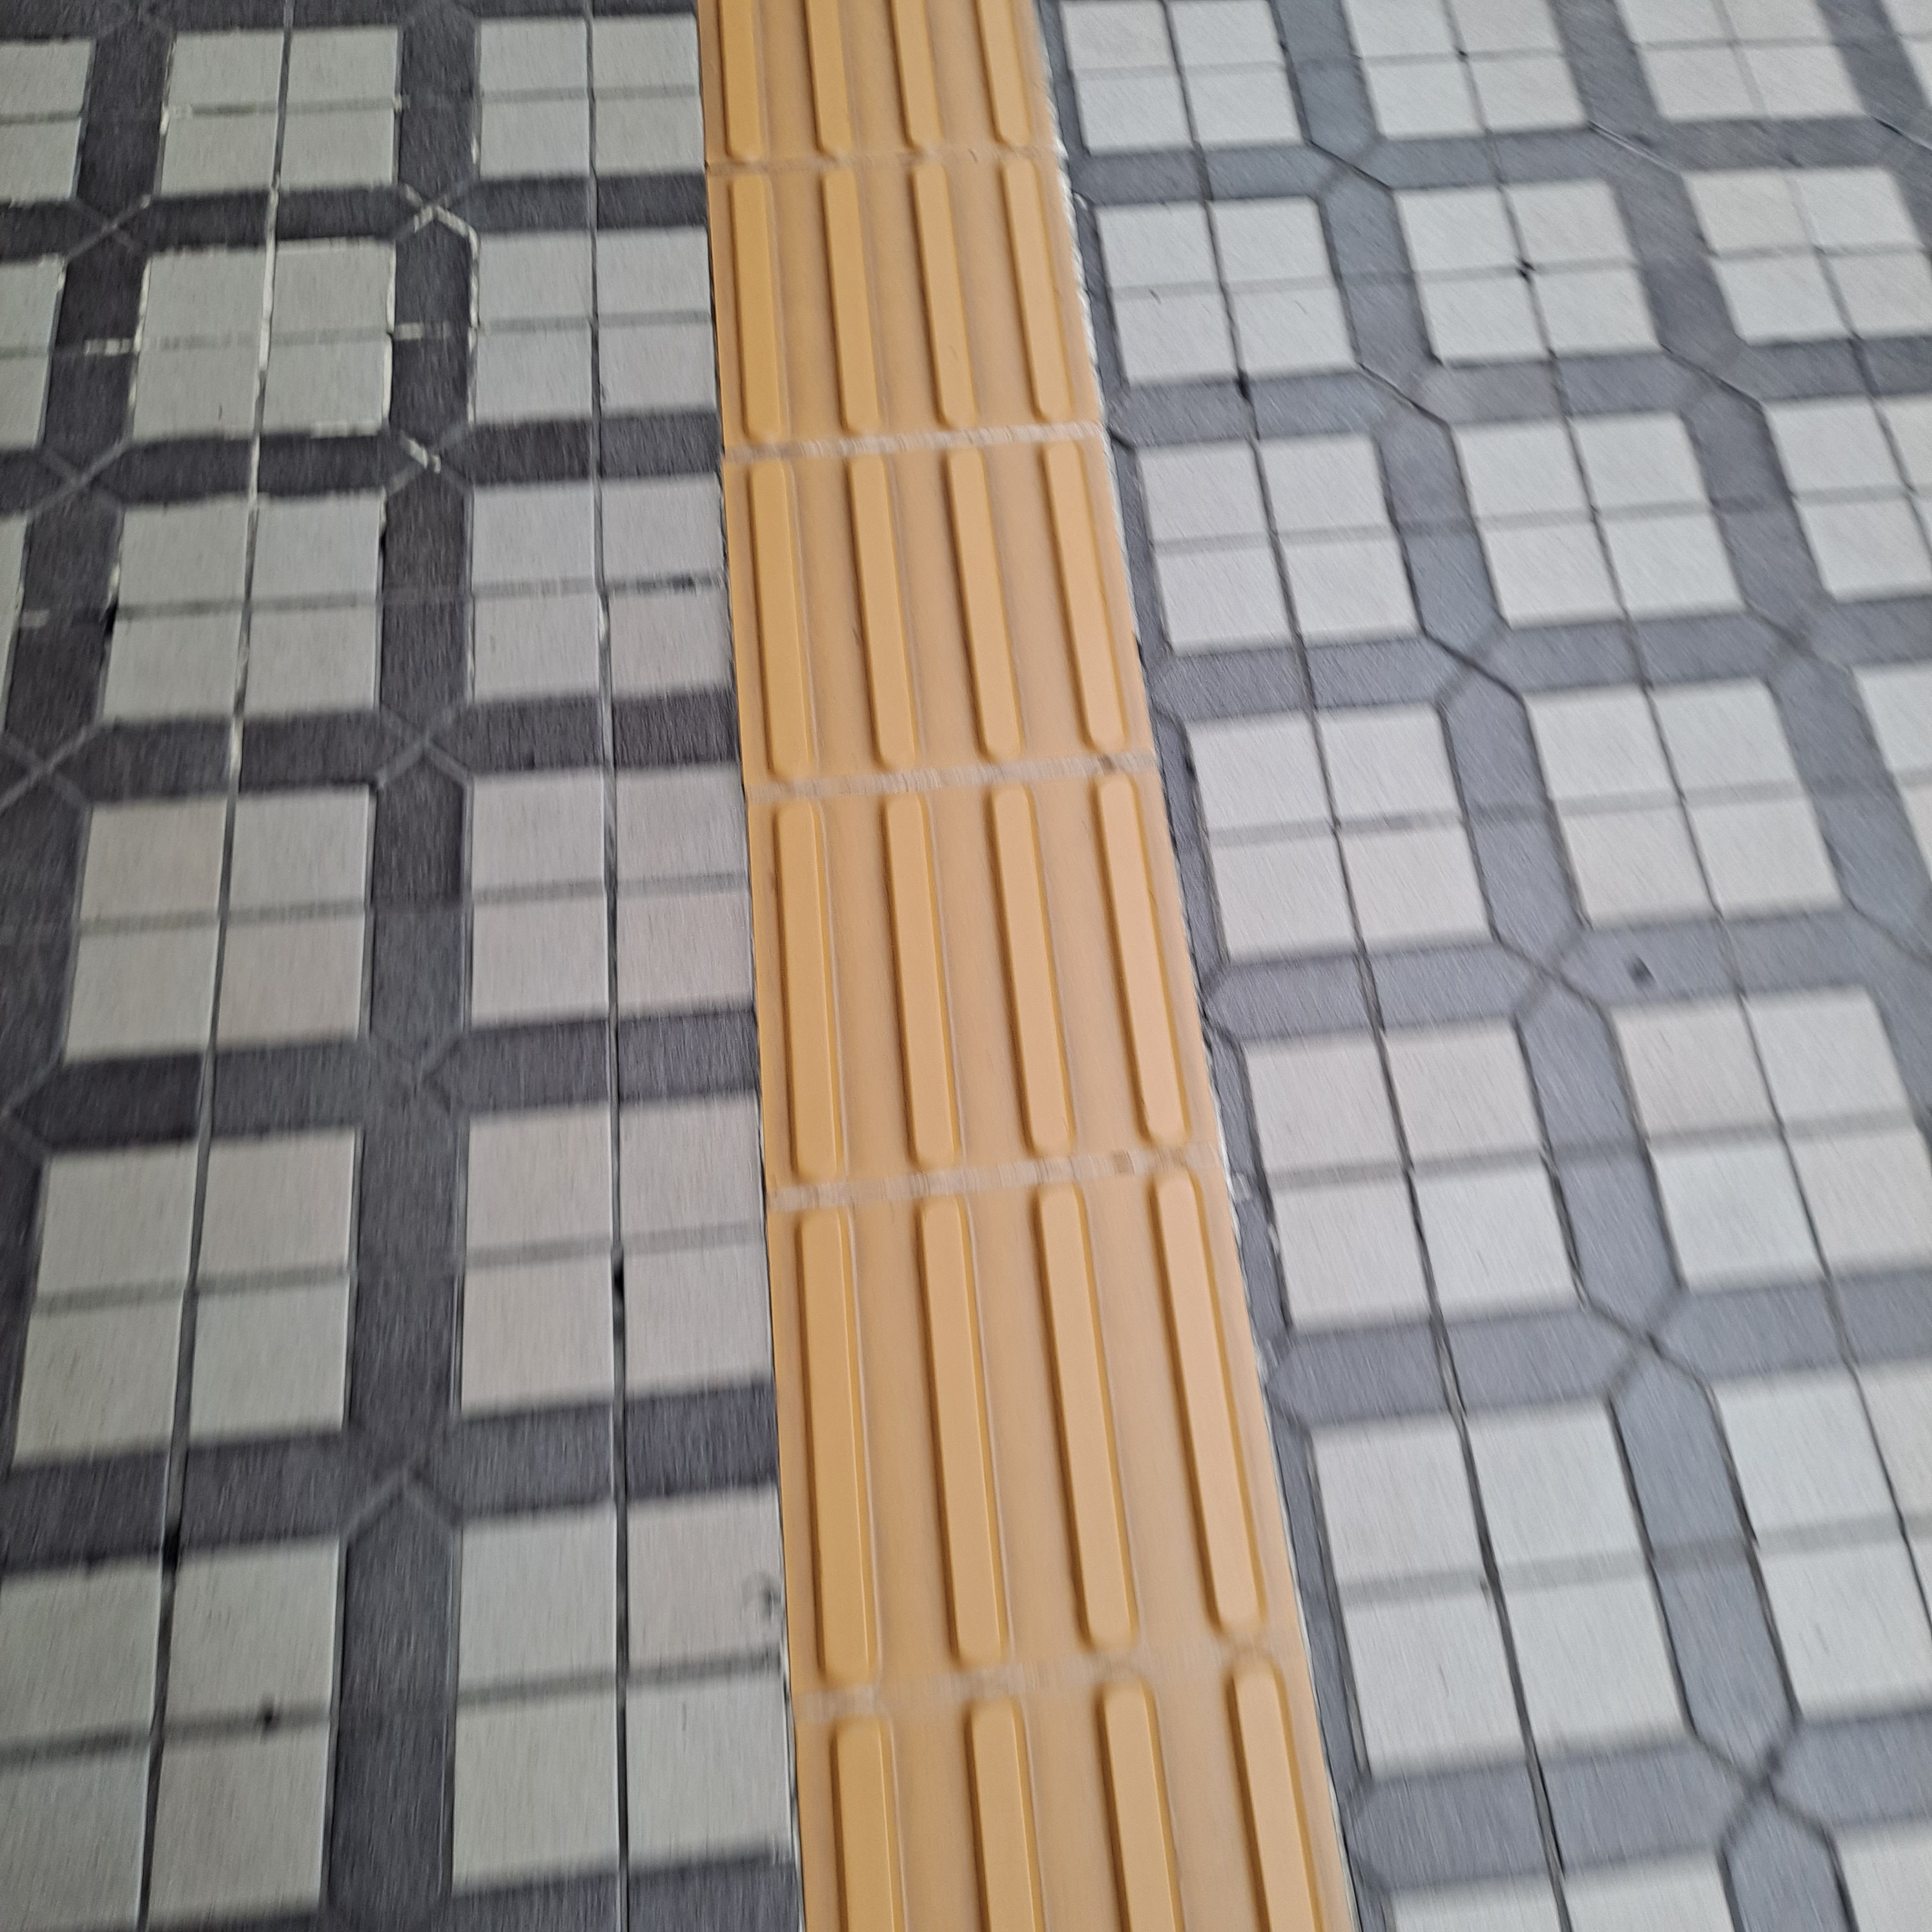guideBlock: (764, 1150, 1249, 1637), (763, 778, 1223, 1194), (727, 439, 1141, 821), (819, 1667, 1378, 1932), (697, 157, 1065, 444), (702, 9, 1037, 138)
